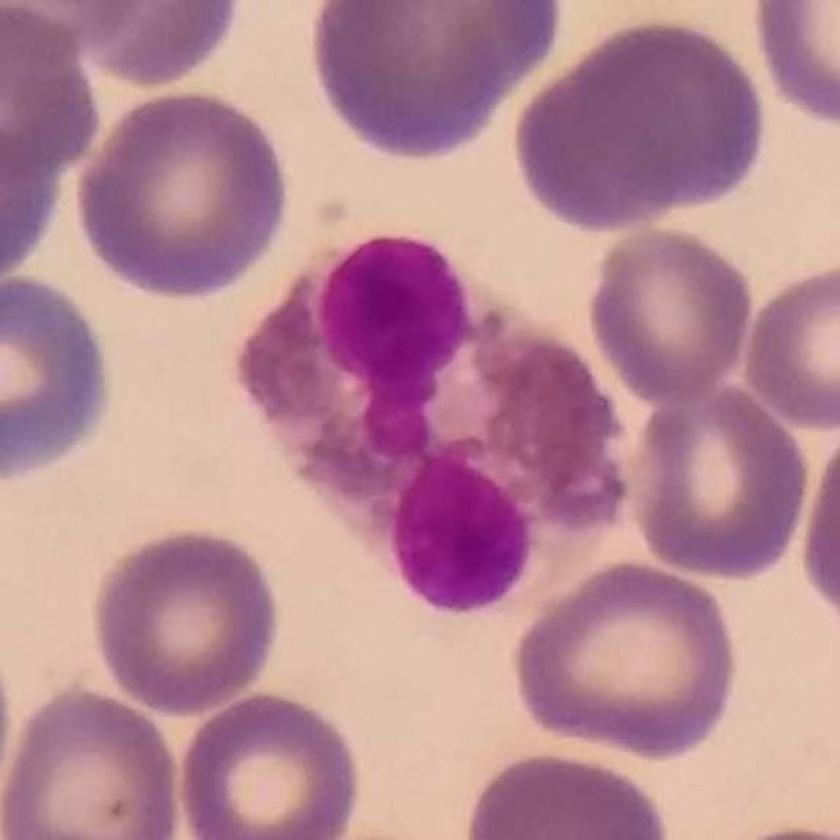eosinophil: (232, 233, 635, 622)
